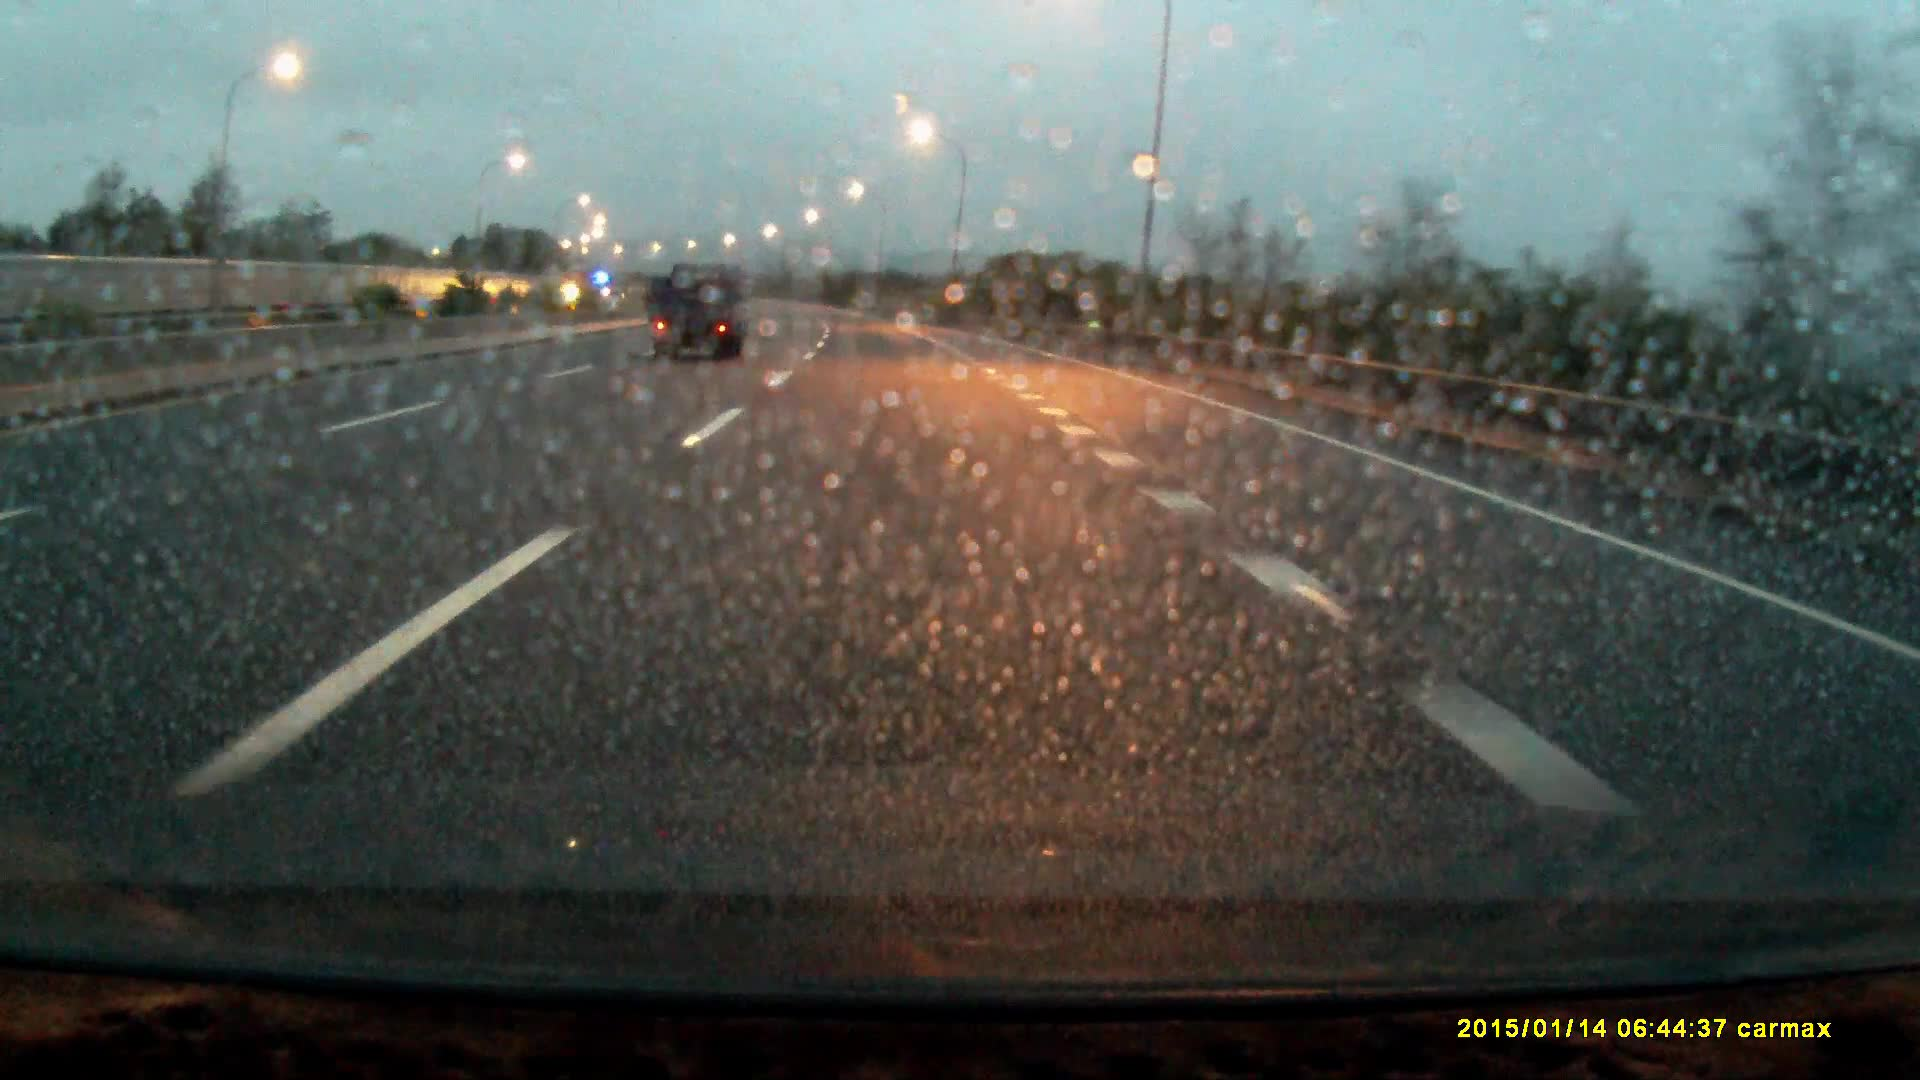vehicle: (651, 257, 750, 365)
